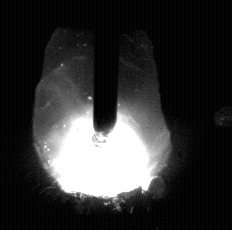arame: (94, 0, 118, 136)
poca: (33, 0, 172, 230)
